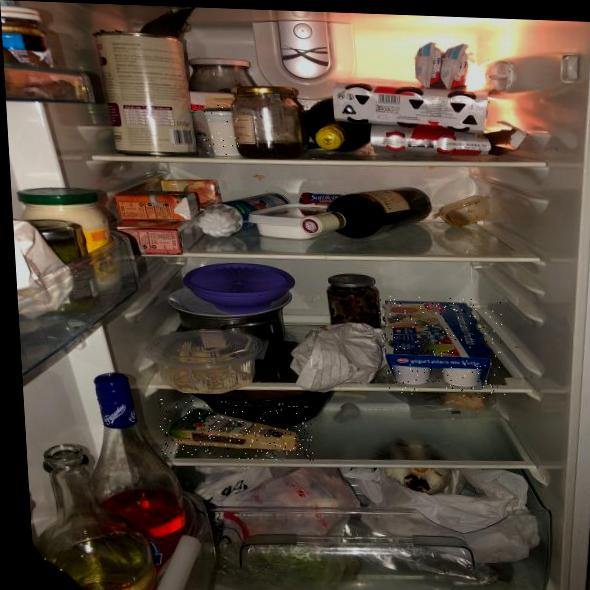cheese: (158, 398, 314, 461)
yoghurt: (378, 294, 508, 399), (196, 103, 240, 155)
